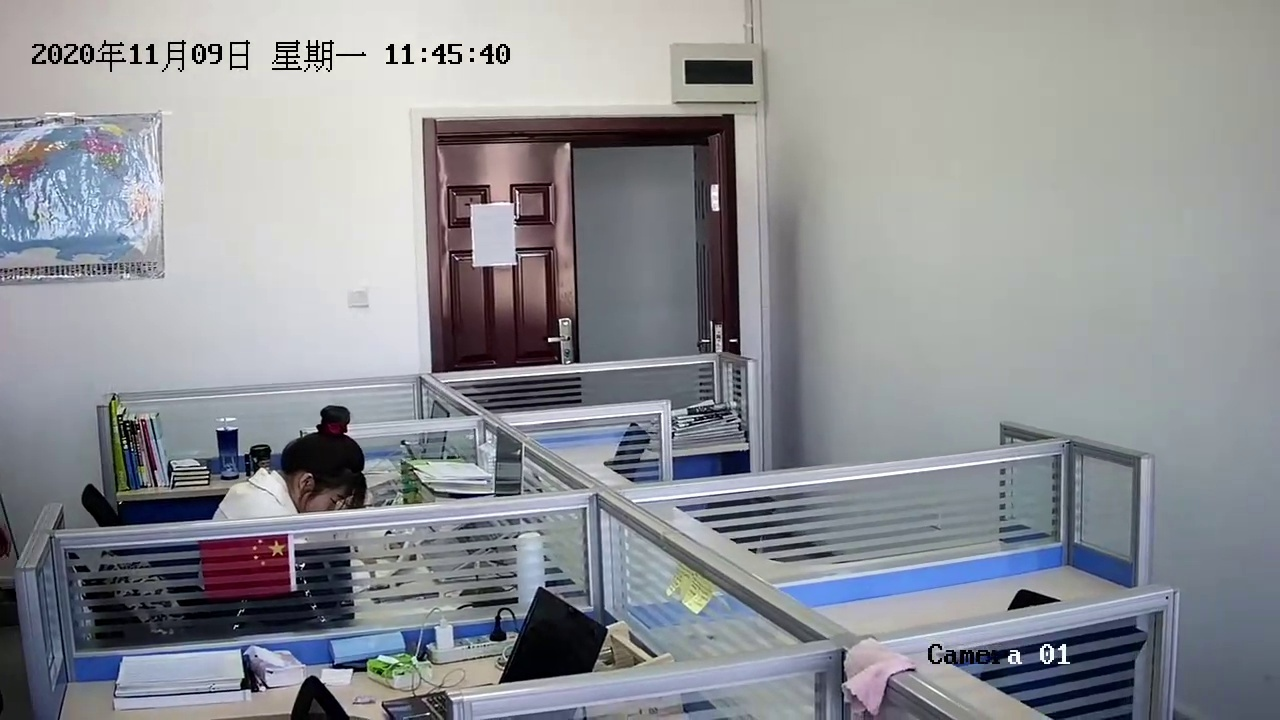mask: (279, 424, 372, 514)
